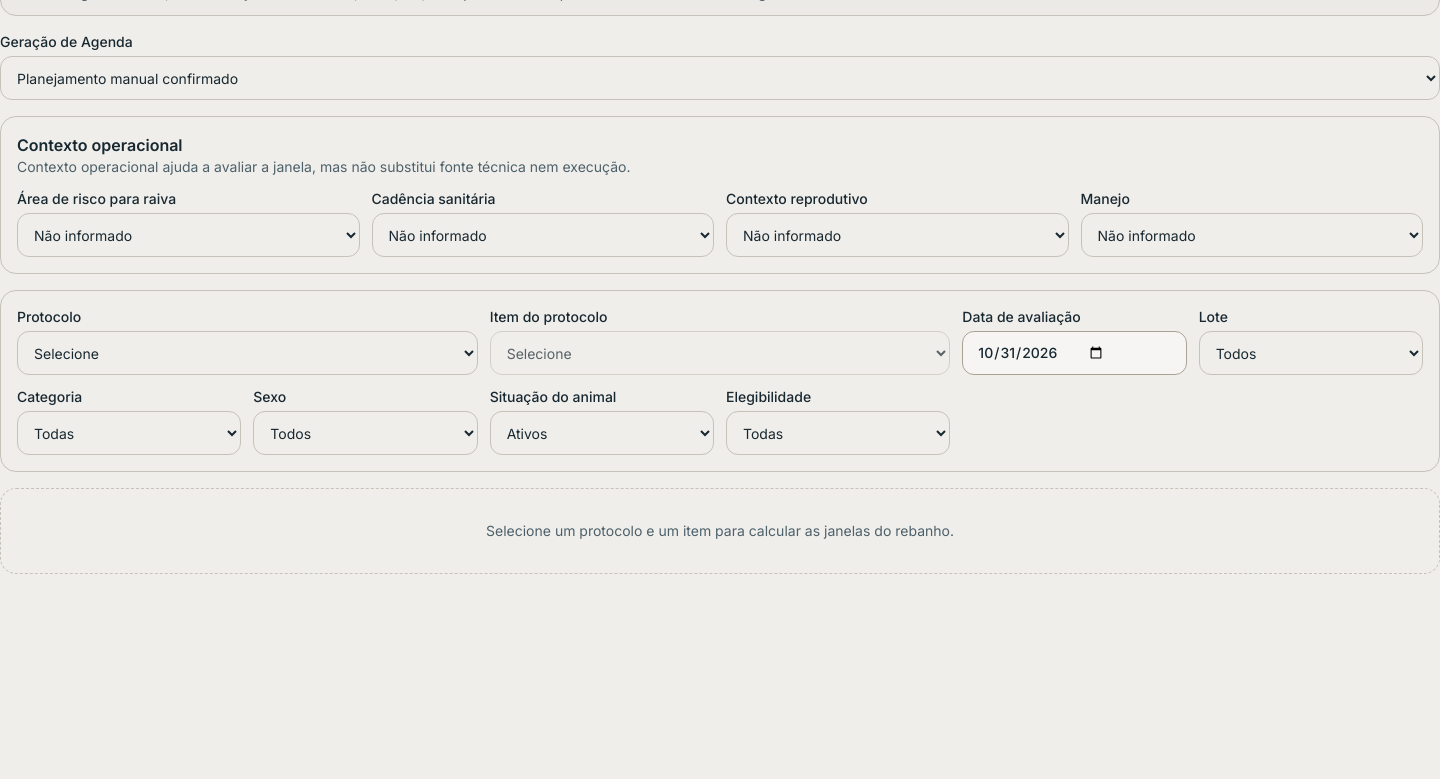
Test: SanitaryProtocolWindowPanelV2 › mantém a revisão após erro e permite retry explícito sem perder seleção
This screenshot has width=1440, height=779.
Step 1. Select "Brucelose B19" in the dropdown named "Selecionar protocolo" → (247, 353), box top-left (17, 331), bottom-right (478, 375)
Step 2. Select "B19 — fêmeas de 3 a 8 meses" in the dropdown named "Selecionar item do protocolo" → (720, 353), box top-left (490, 331), bottom-right (950, 375)
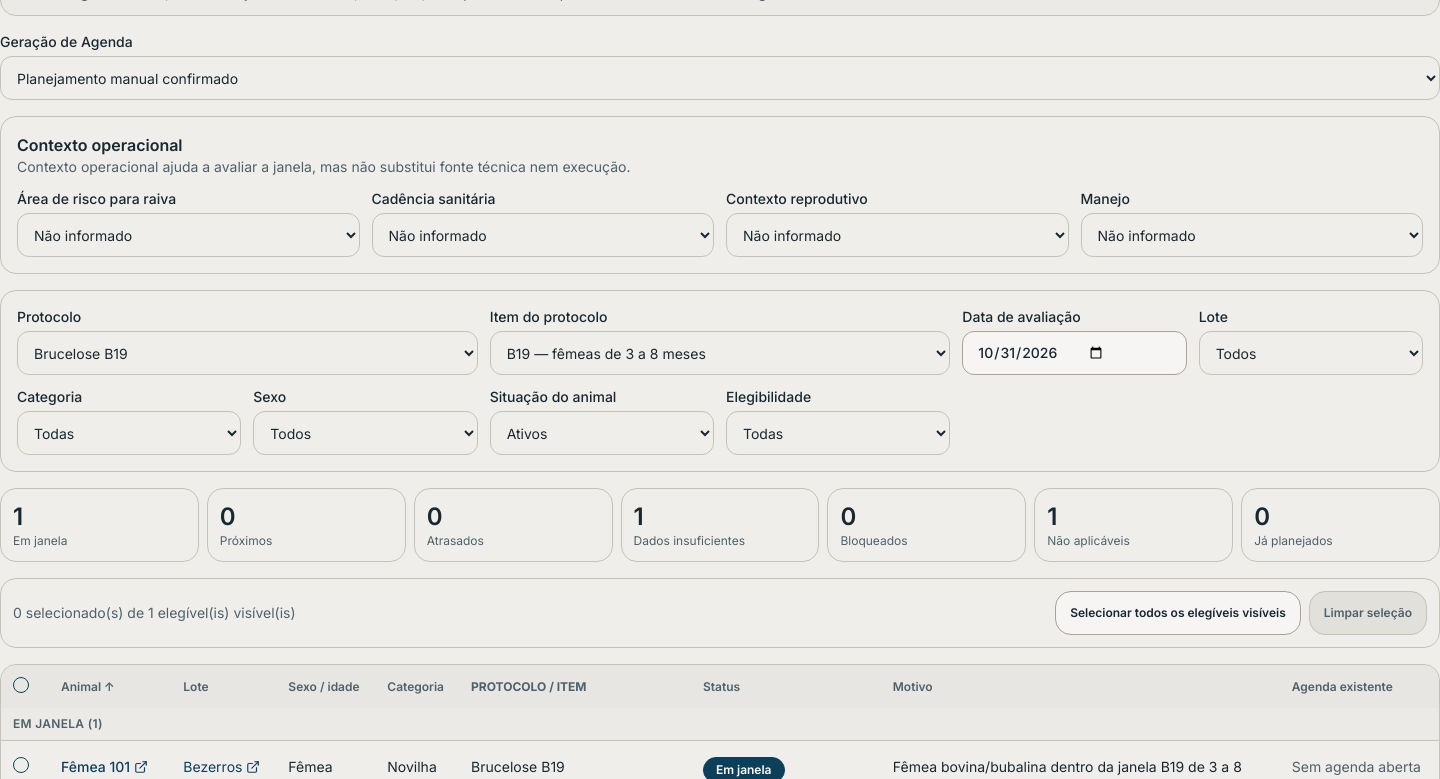
Step 3. Type "2026-07-04" into the date field labelled "Data de avaliação" → (1074, 353), box top-left (962, 331), bottom-right (1187, 375)
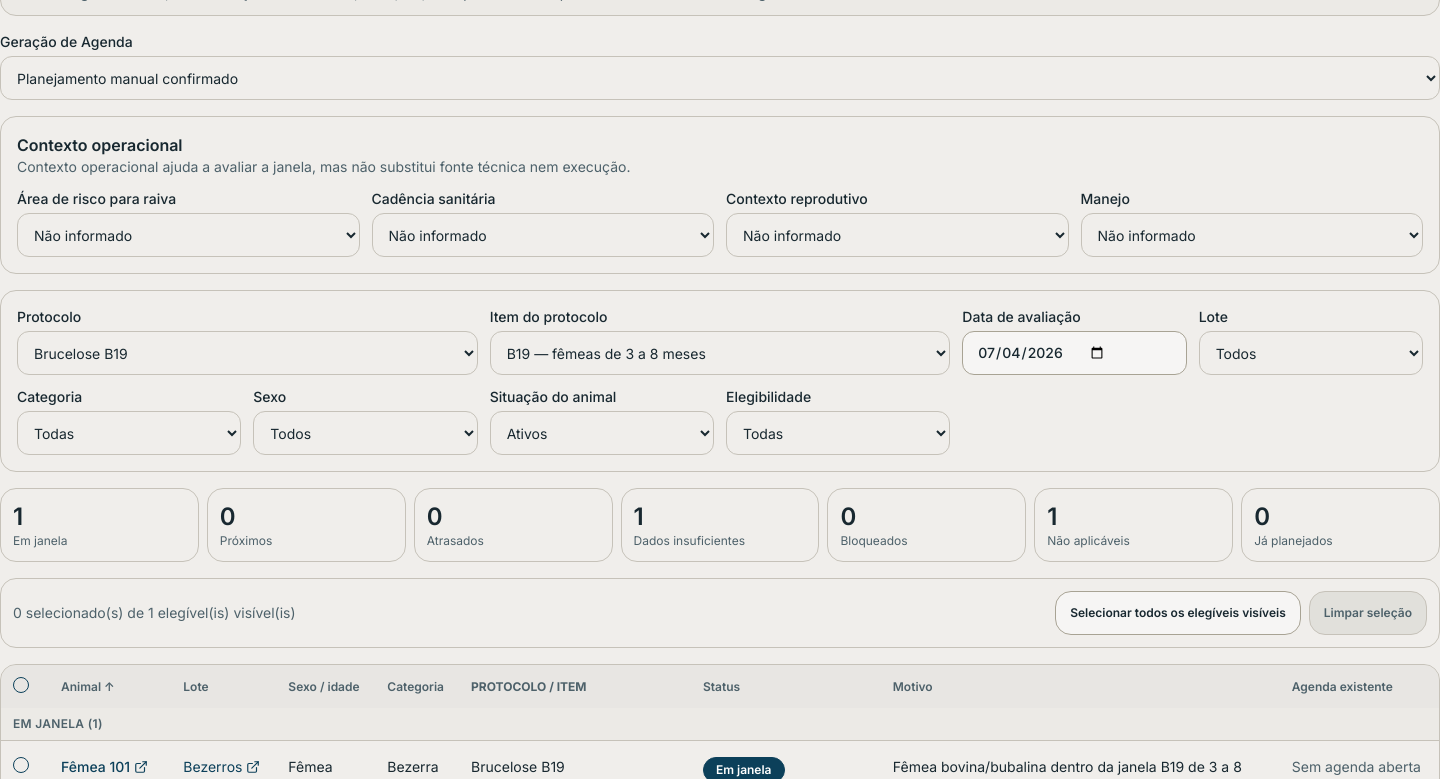
Step 4. Click the checkbox named "Selecionar Fêmea 101" → (21, 765), box top-left (13, 757), bottom-right (29, 773)
(page scrolled)
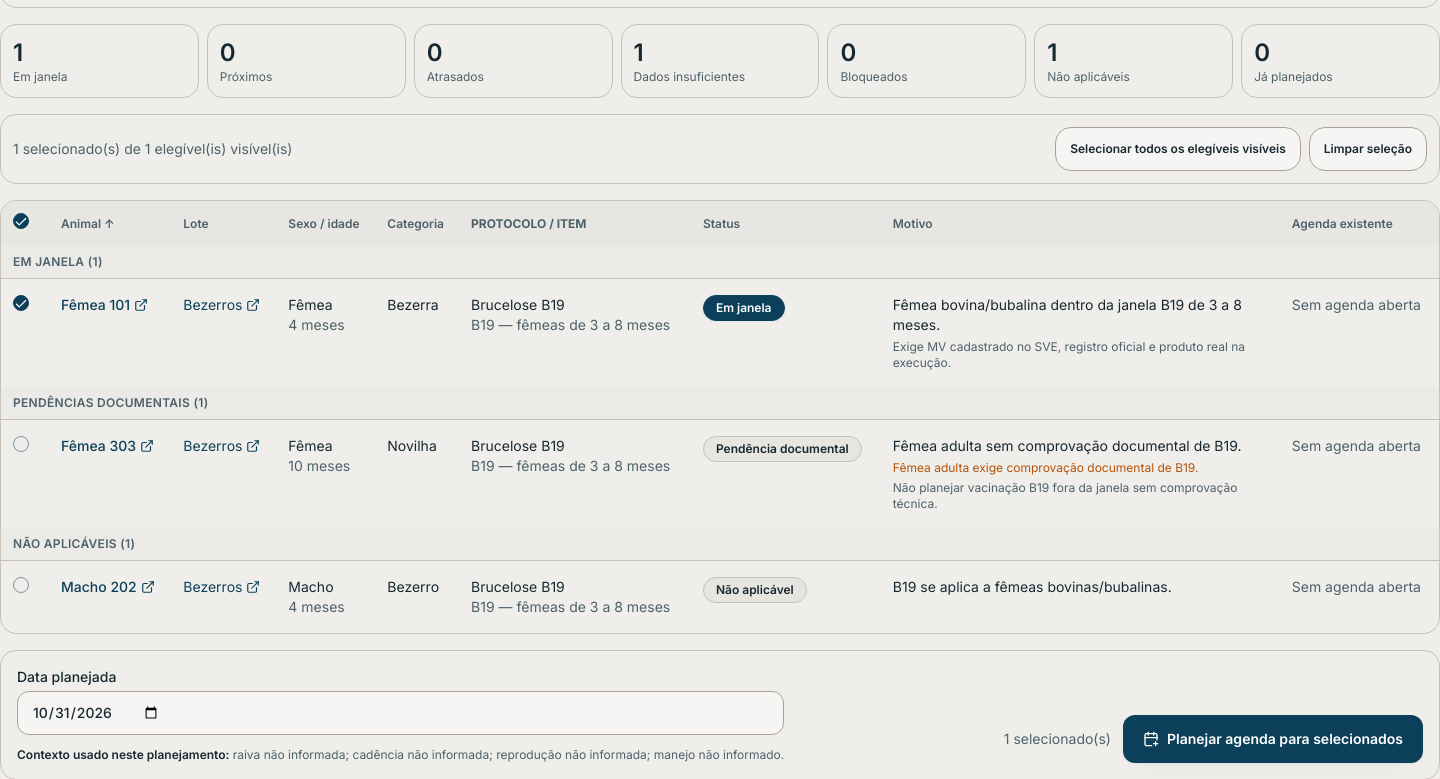
Step 5. Click the button "Planejar agenda para selecionados" → (1273, 739), box top-left (1123, 715), bottom-right (1423, 763)
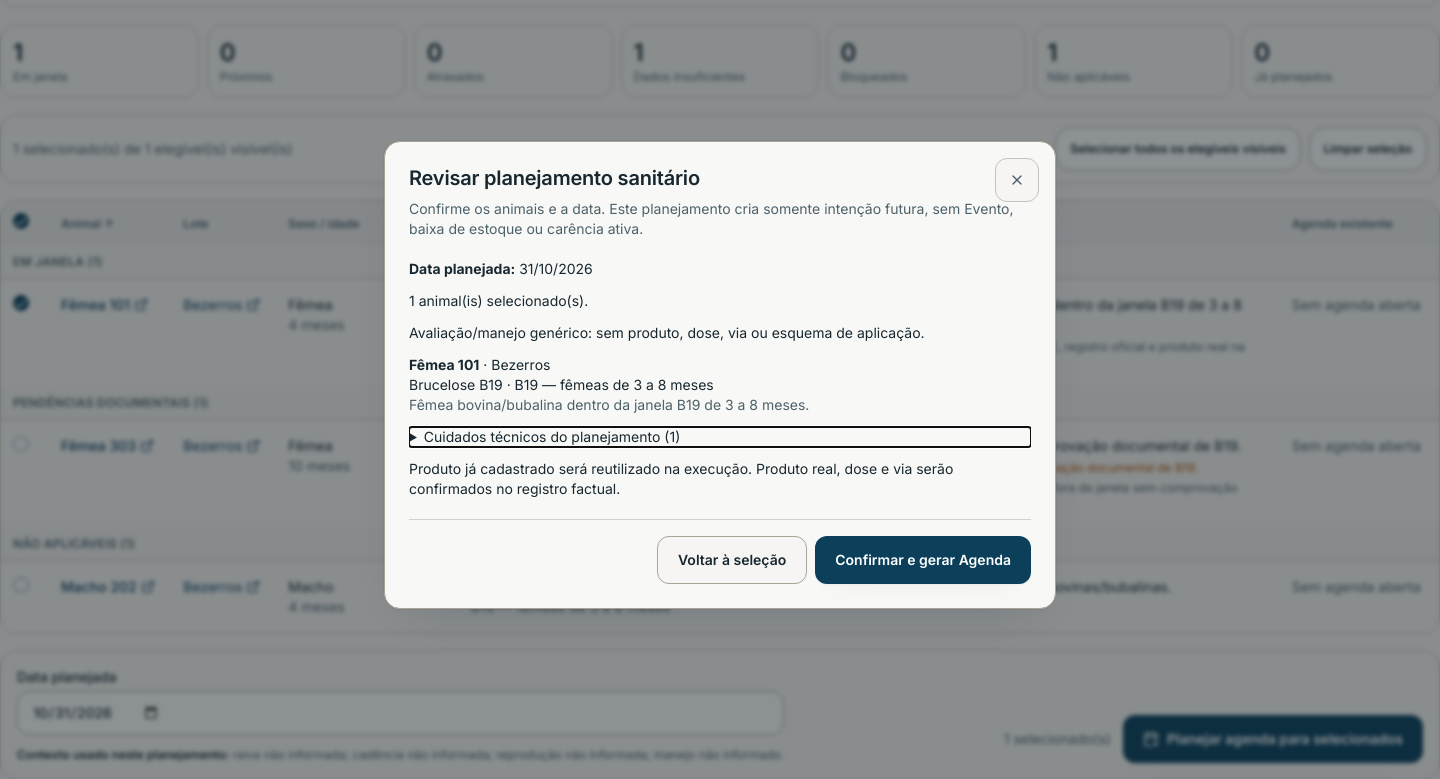
Step 6. Click the button "Confirmar e gerar Agenda" → (923, 560), box top-left (815, 536), bottom-right (1031, 584)
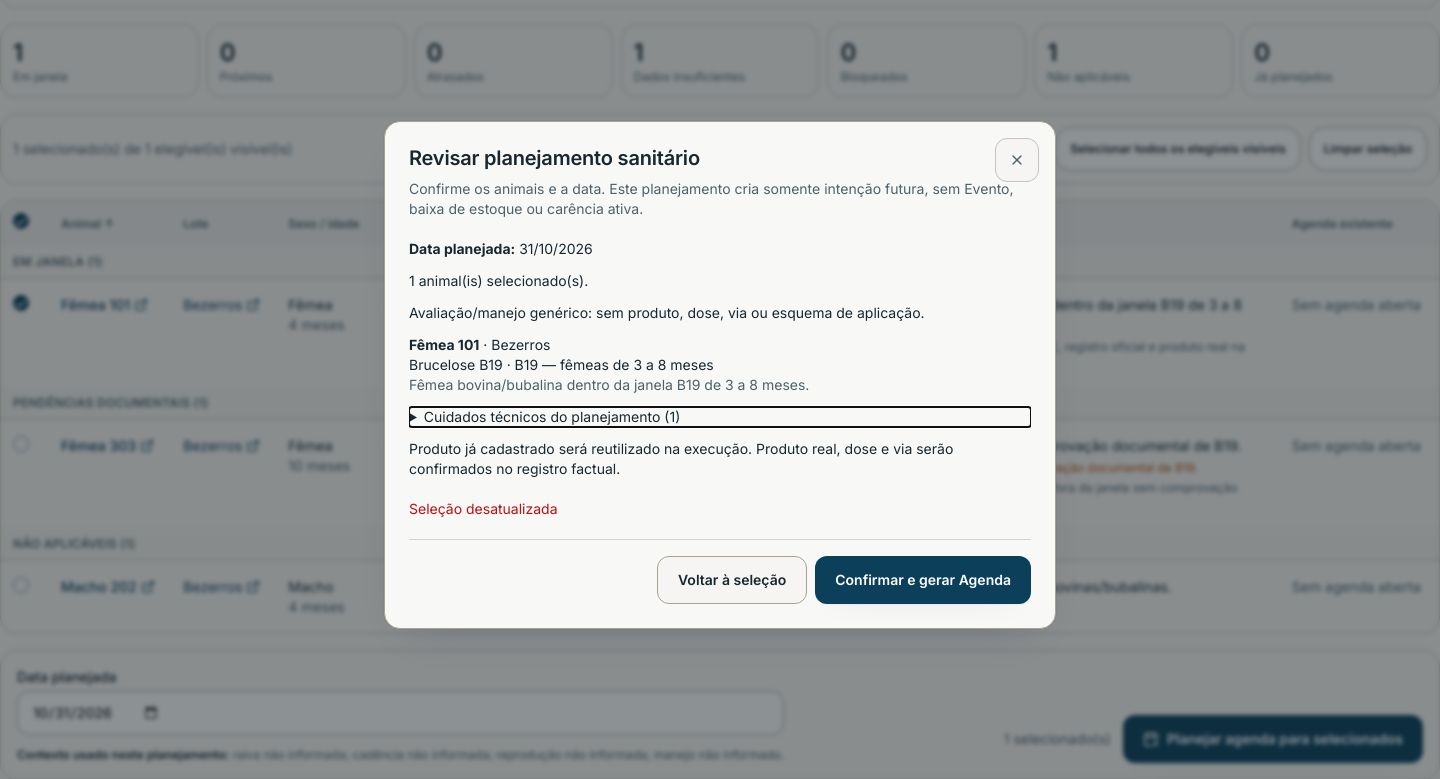
Check: the dialog is shown, box top-left (384, 121), bottom-right (1056, 629)
Check: the message reads "Seleção desatualizada", box top-left (409, 500), bottom-right (558, 517)
Step 7. Click the button "Confirmar e gerar Agenda" → (923, 580), box top-left (815, 556), bottom-right (1031, 604)
(page scrolled)
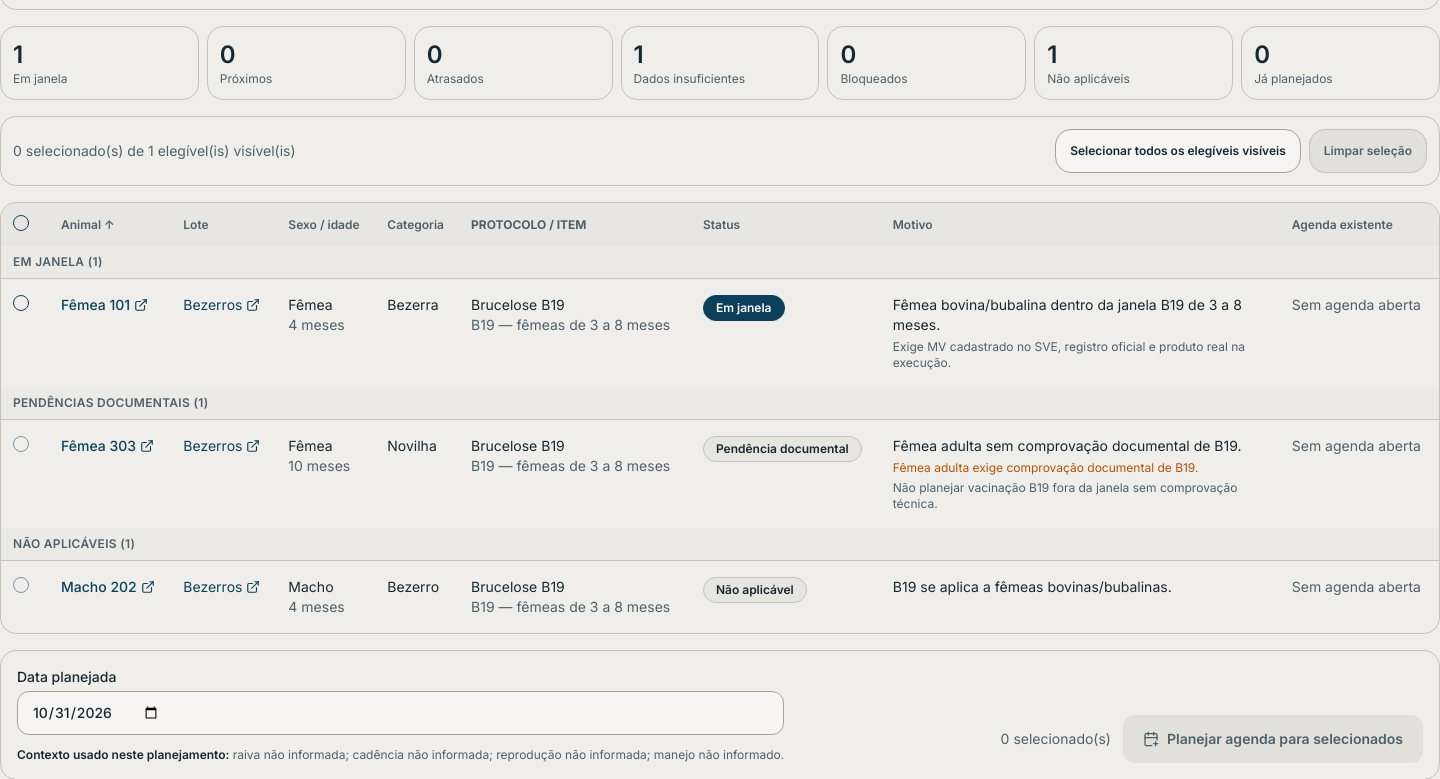
Check: the dialog is gone
